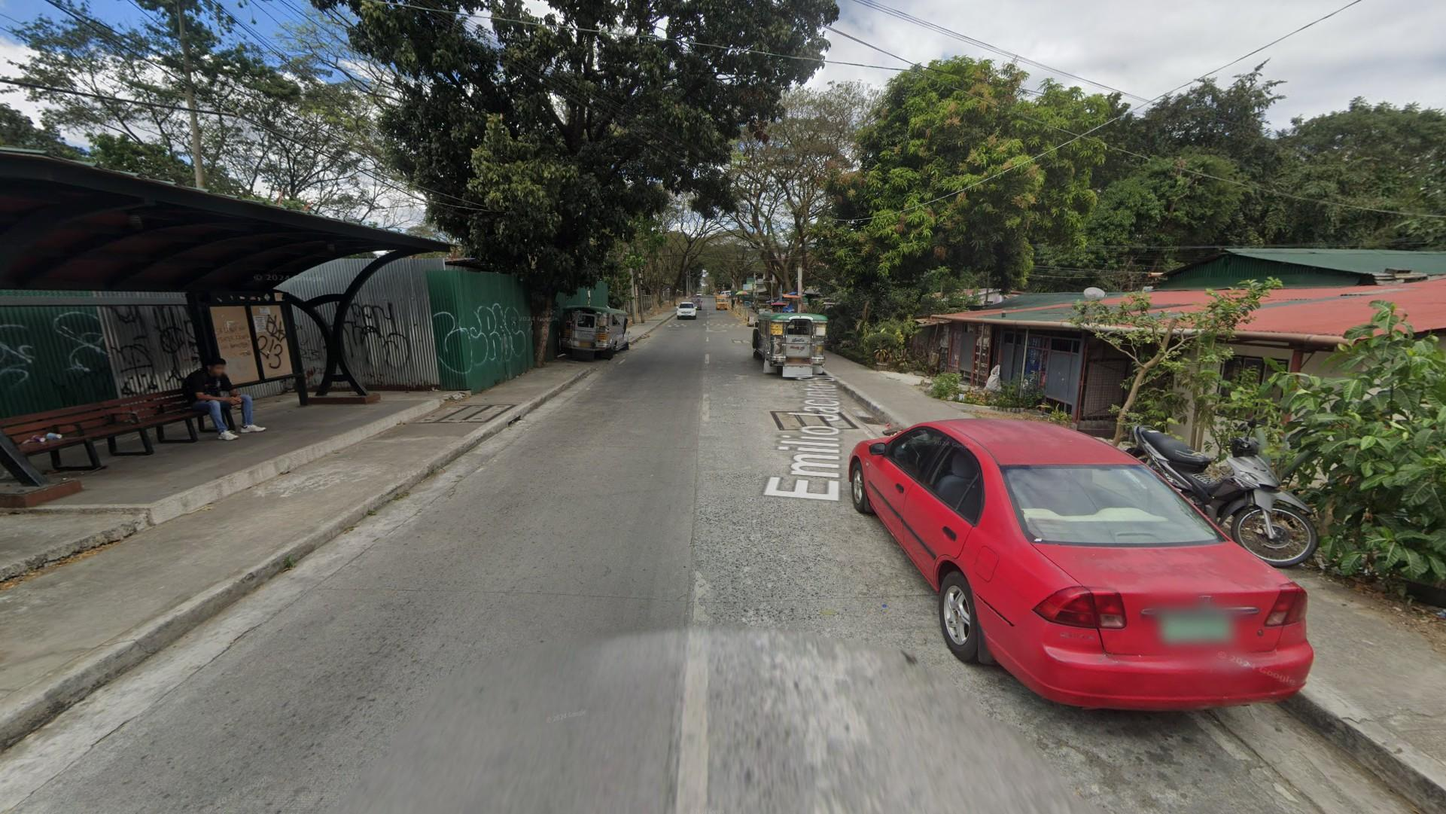pedestrian: (180, 355, 267, 442), (730, 297, 735, 312)
